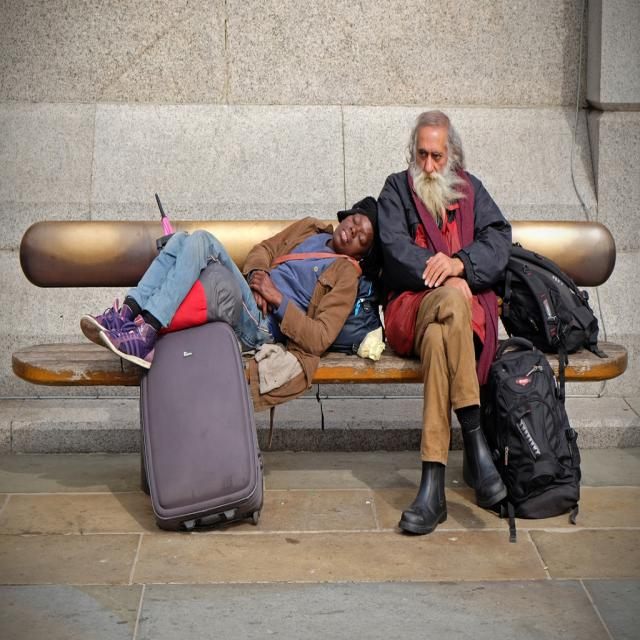backpack: (137, 329, 266, 537), (477, 350, 585, 520), (490, 233, 596, 357)
